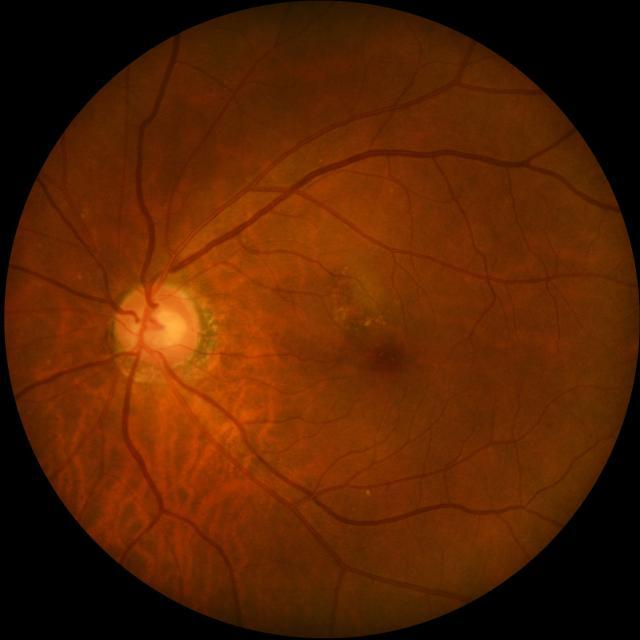OC: (139, 310, 185, 350)
OD: (113, 282, 199, 368)
